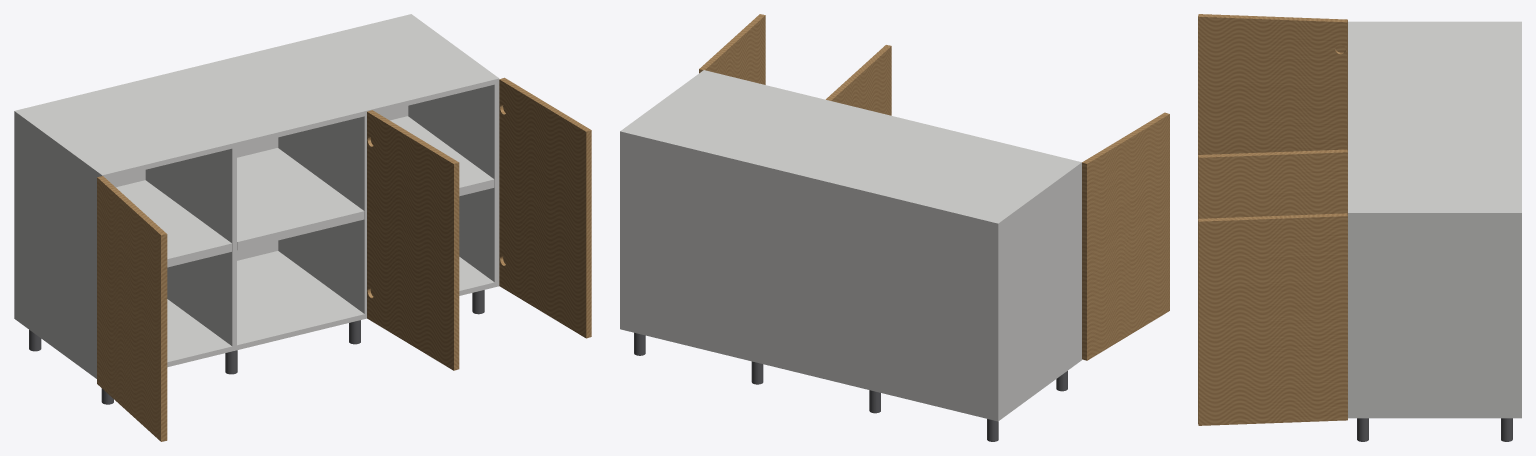
Rendered from w1500_inset_default_open.glb.
3 views of the same model, side by side, from view 1: azimuth 30°, elevation 25°; view 2: azimuth 150°, elevation 25°; view 3: azimuth 270°, elevation 25° (orthographic). The views are drawn at different scales.
Visible parts, largest first — view 1: white, oak, leg; view 2: white, oak, leg; view 3: white, oak, leg.
Part boxes in pixels (left/top/right/bottom): white: left=14, top=14, right=499, bottom=378; oak: left=97, top=77, right=591, bottom=441; leg: left=29, top=290, right=484, bottom=404; white: left=620, top=70, right=1081, bottom=421; oak: left=699, top=14, right=1169, bottom=360; leg: left=634, top=332, right=1067, bottom=441; white: left=1348, top=21, right=1521, bottom=418; oak: left=1198, top=14, right=1347, bottom=425; leg: left=1357, top=418, right=1512, bottom=441.
Size of the model in its own units: 1.63 by 0.85 by 1.07.
Materials: 3 (1 with a texture image).
